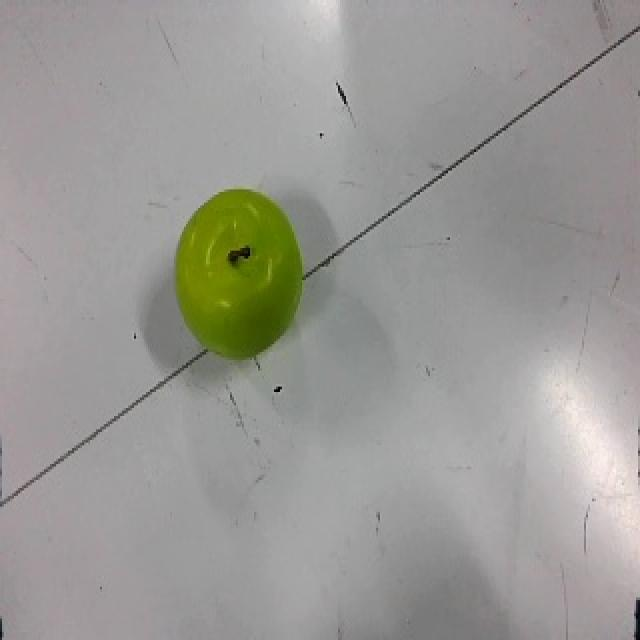apple: (174, 186, 305, 360)
